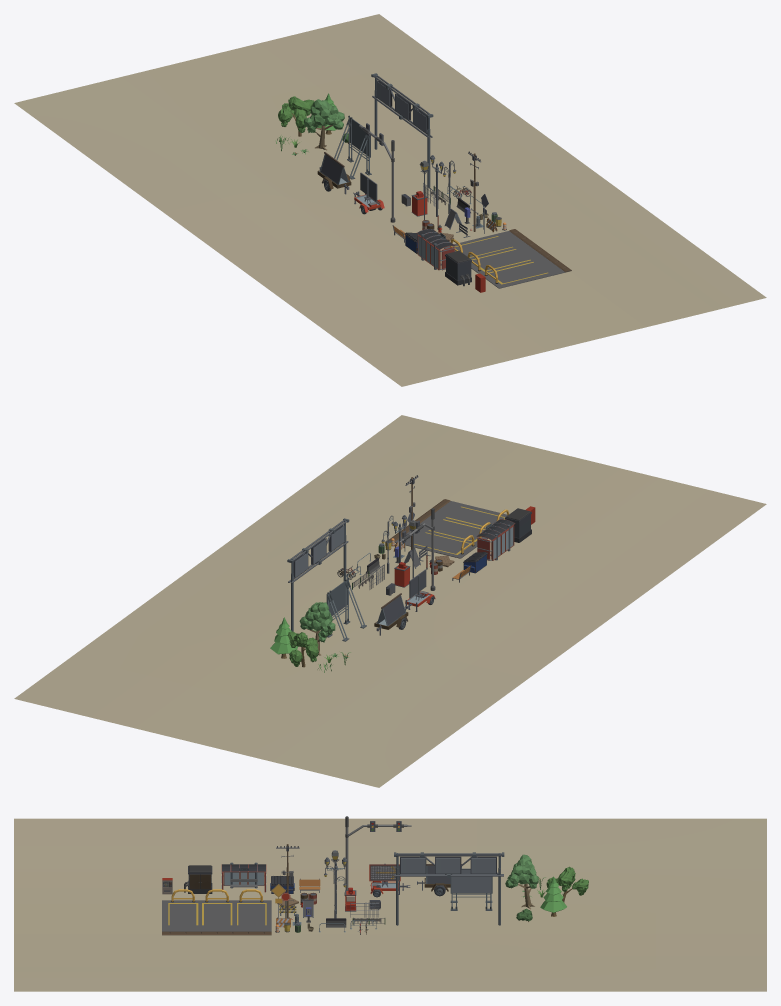
File: StreeProps.fbx
The picture shows the model from 3 angles, top to bottom: view 1: azimuth 30°, elevation 25°; view 2: azimuth 150°, elevation 25°; view 3: azimuth 270°, elevation 25°; orthographic projection. The views are drawn at different scales.
Parts seen in each view (by area): view 1: Plane, parking place, Road Bunner, Bus stop, Tree3, Road Bunner 2, Tree2, Power box; view 2: Plane, parking place, Road Bunner, Bus stop, Road Bunner 2, Tree3, Tree2; view 3: Plane, parking place, Road Bunner, Bus stop, Road Bunner 2, Tree3, Power box, Tree2, traffic light, Elk tree, Construction monitor, Curb (+2 smaller).
Boxes of the visible parts, x1,y1,x2,y2 form: Plane: (14, 14, 766, 386); parking place: (444, 231, 565, 288); Road Bunner: (371, 73, 433, 187); Bus stop: (417, 228, 455, 270); Tree3: (304, 99, 344, 150); Road Bunner 2: (334, 115, 371, 179); Tree2: (278, 96, 314, 136); Power box: (445, 251, 471, 286); Plane: (14, 415, 766, 787); parking place: (394, 501, 507, 558); Road Bunner: (287, 518, 349, 631); Bus stop: (476, 519, 515, 560); Road Bunner 2: (326, 577, 366, 641); Tree3: (299, 602, 335, 655); Tree2: (288, 631, 318, 667); Plane: (14, 818, 766, 991); parking place: (162, 900, 271, 931); Road Bunner: (394, 852, 504, 925); Bus stop: (221, 862, 266, 892); Road Bunner 2: (450, 868, 492, 910); Tree3: (505, 854, 538, 909); Power box: (184, 865, 212, 893); Tree2: (546, 866, 588, 902); traffic light: (344, 816, 411, 895); Elk tree: (540, 876, 566, 916); Construction monitor: (369, 863, 400, 887); Curb: (162, 931, 271, 935).
Bounding box in the file's own units: 3848 × 449 × 2092.
